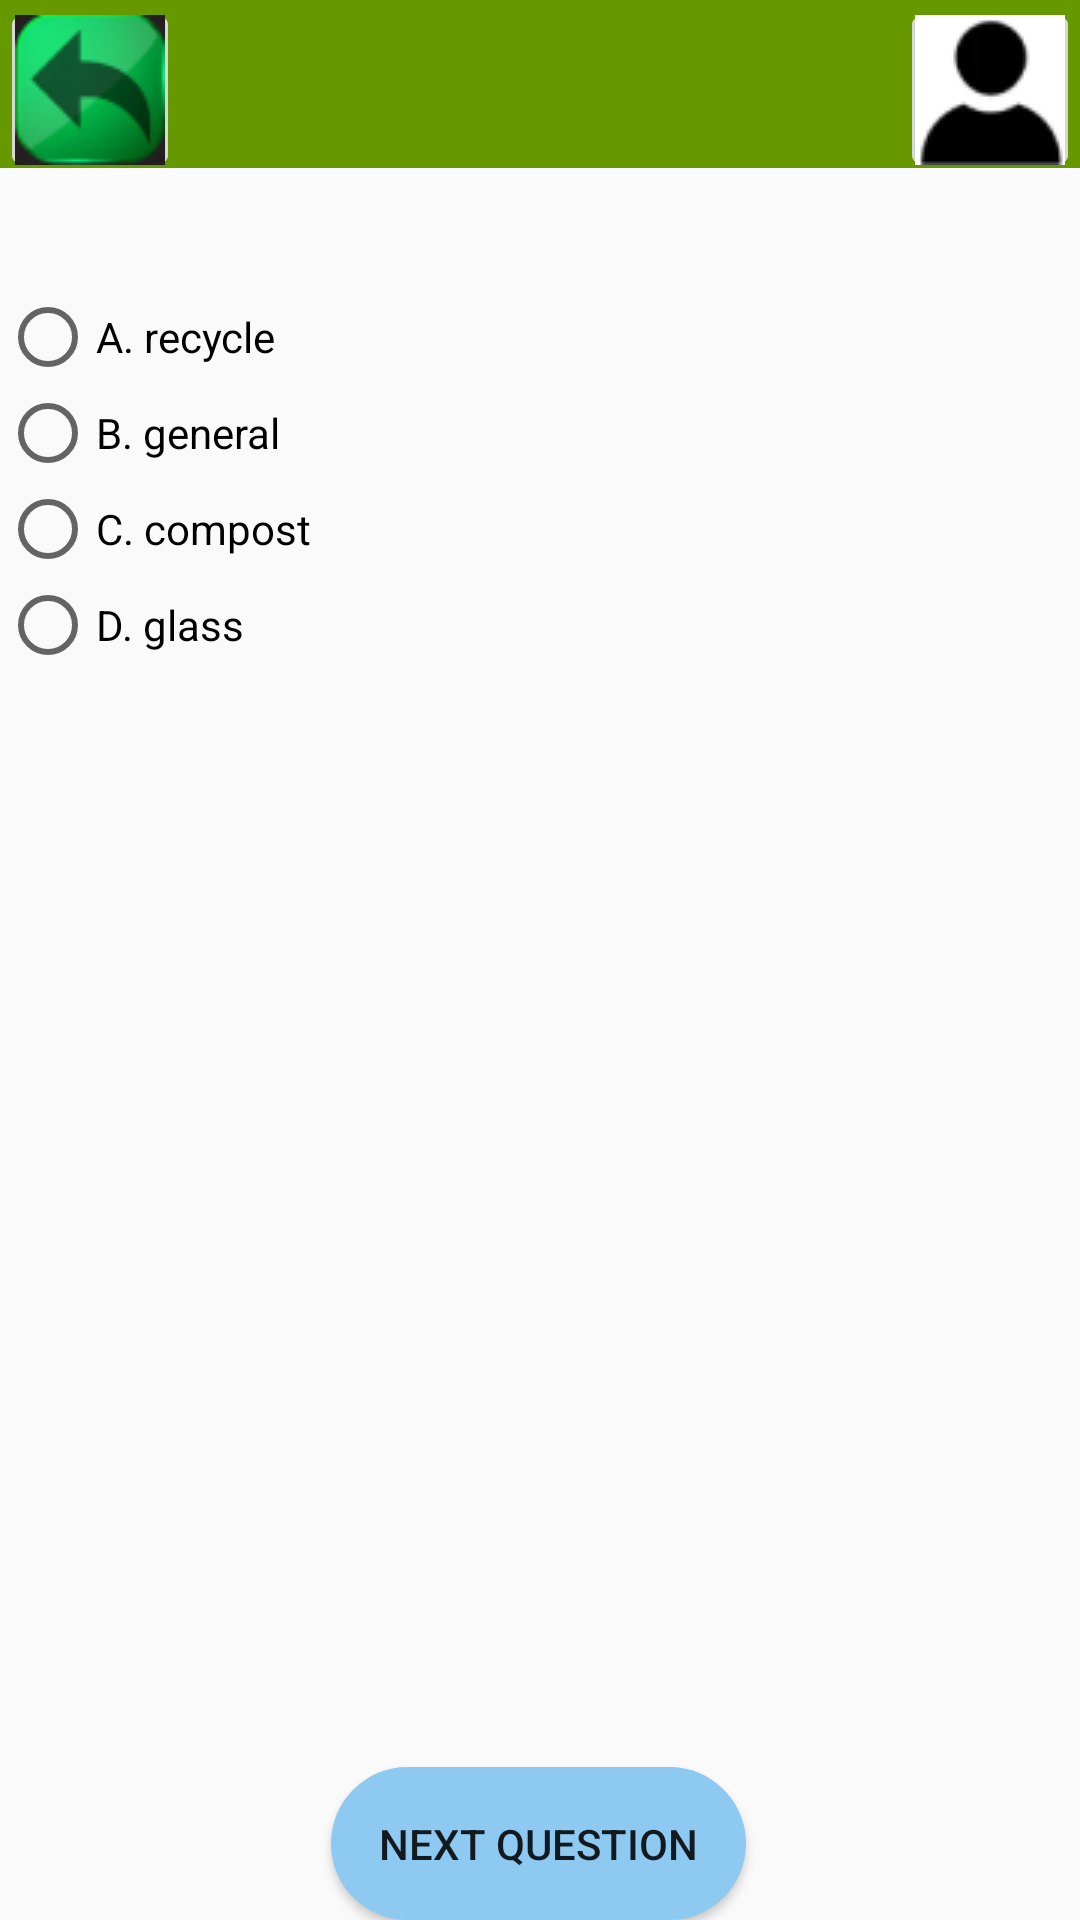

Point at icon controls on the screen. Image size 1080×1920, points as [x,y].
back: [90,90]
Open account information: [990,90]
